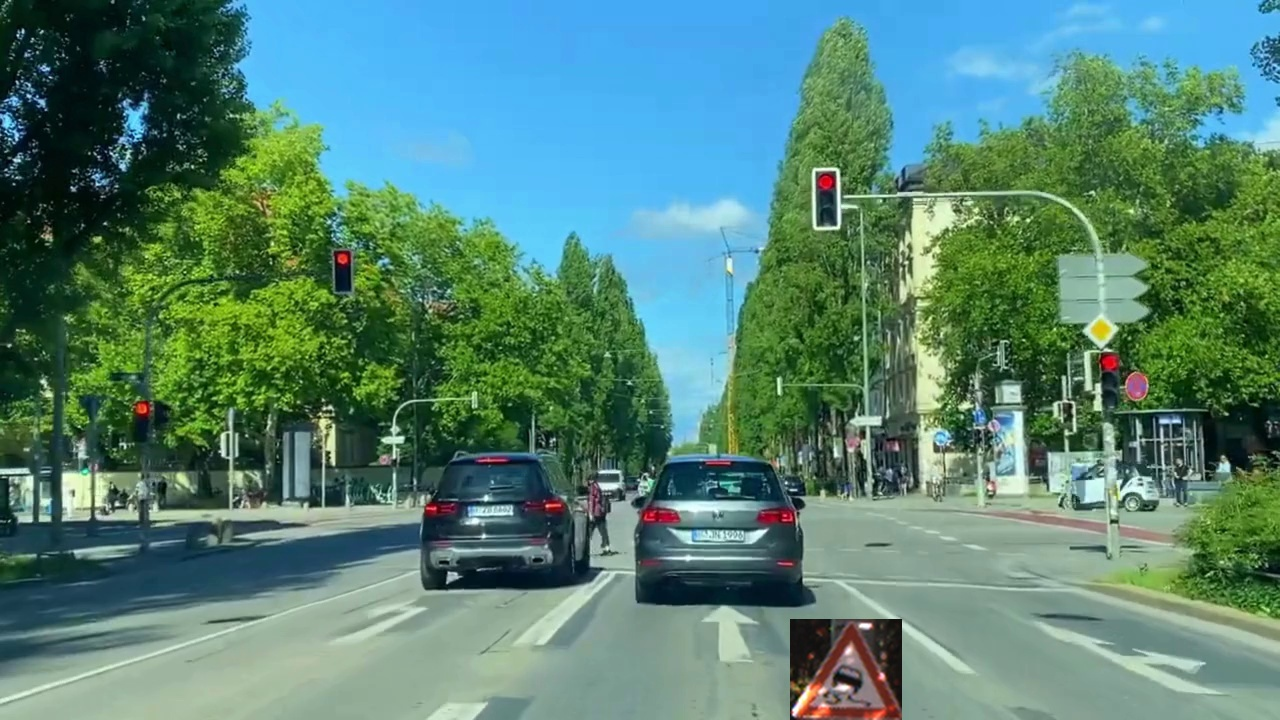Slippery: (790, 619, 902, 720)
